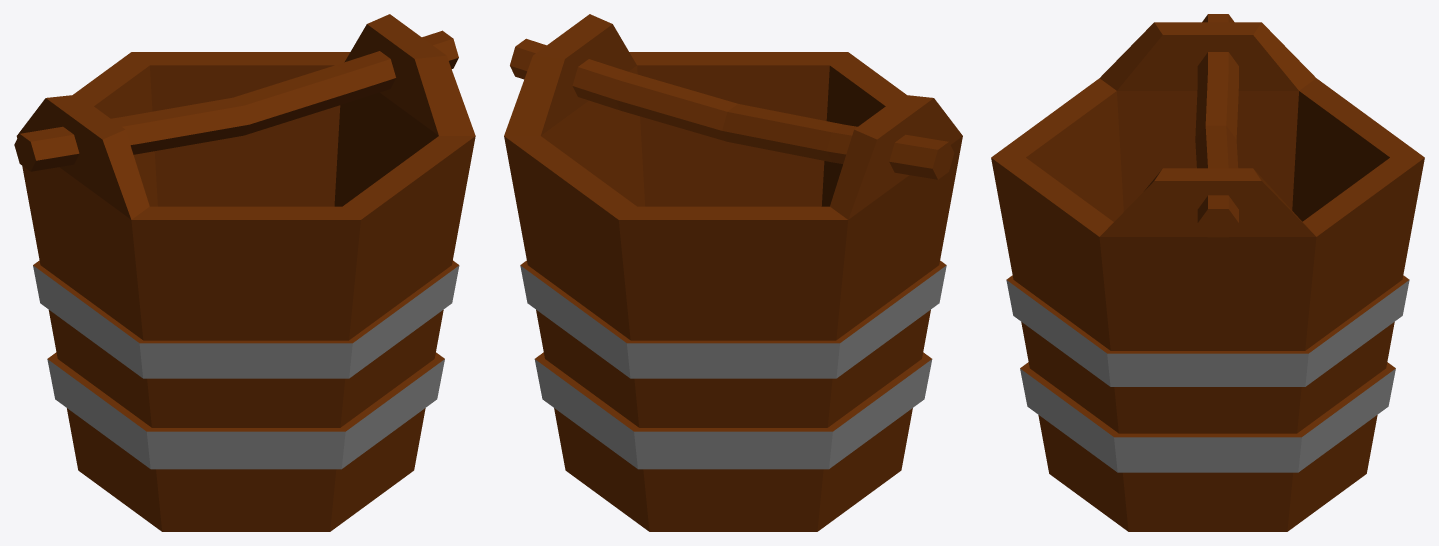
Rendered from bucket.fbx.
3 views of the same model, side by side, from view 1: azimuth 30°, elevation 25°; view 2: azimuth 150°, elevation 25°; view 3: azimuth 270°, elevation 25° (orthographic). The views are drawn at different scales.
Parts seen in each view (by area): view 1: bucket; view 2: bucket; view 3: bucket.
Boxes of the visible parts, x1,y1,x2,y2 form: bucket: [14, 14, 475, 531]; bucket: [504, 14, 962, 531]; bucket: [991, 14, 1424, 531].
Bounding box in the file's own units: 86.61 × 77.06 × 81.42.
